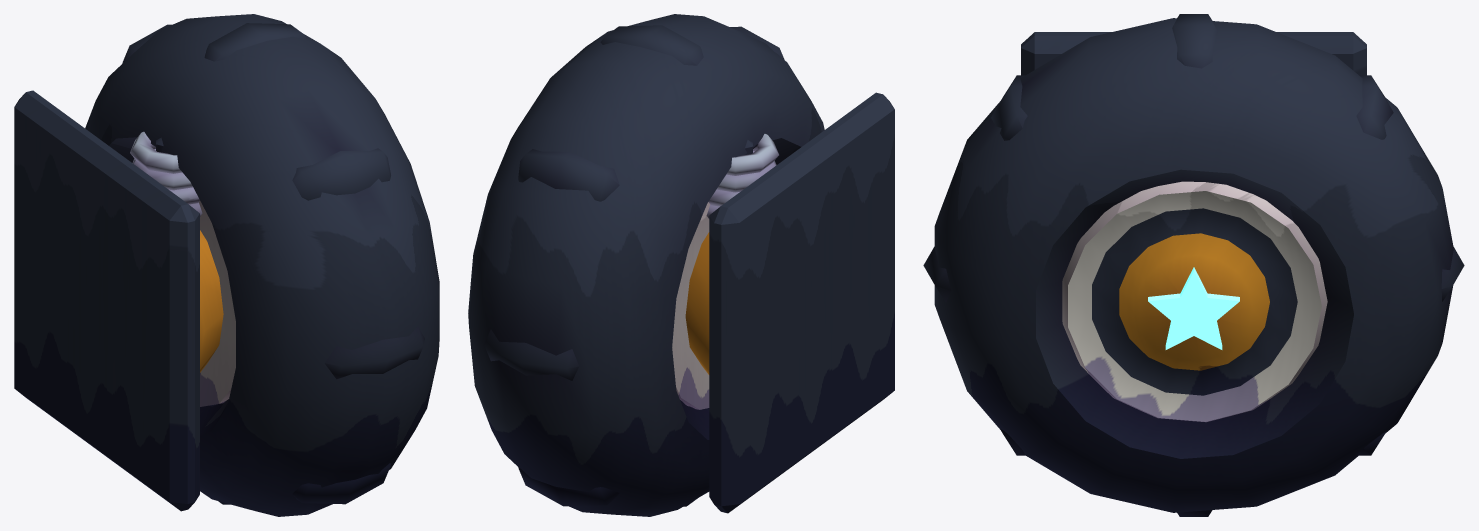
The model's file is R4M_WheelM_Side_Offroad_LOD1.glb.
3 renders of one model, left to right at view 1: azimuth 30°, elevation 25°; view 2: azimuth 150°, elevation 25°; view 3: azimuth 270°, elevation 25°, orthographic. The views are drawn at different scales.
Parts seen in each view (by area): view 1: R4M_WheelM_Side_Offroad_LOD1; view 2: R4M_WheelM_Side_Offroad_LOD1; view 3: R4M_WheelM_Side_Offroad_LOD1.
Part boxes in pixels (box(x1,y1,x2,y2)): R4M_WheelM_Side_Offroad_LOD1: box(14, 14, 439, 516); R4M_WheelM_Side_Offroad_LOD1: box(468, 14, 894, 516); R4M_WheelM_Side_Offroad_LOD1: box(923, 14, 1464, 516).
Bounding box in the file's own units: 0.451 × 0.7665 × 0.782.
Materials: 5 (4 with a texture image).
